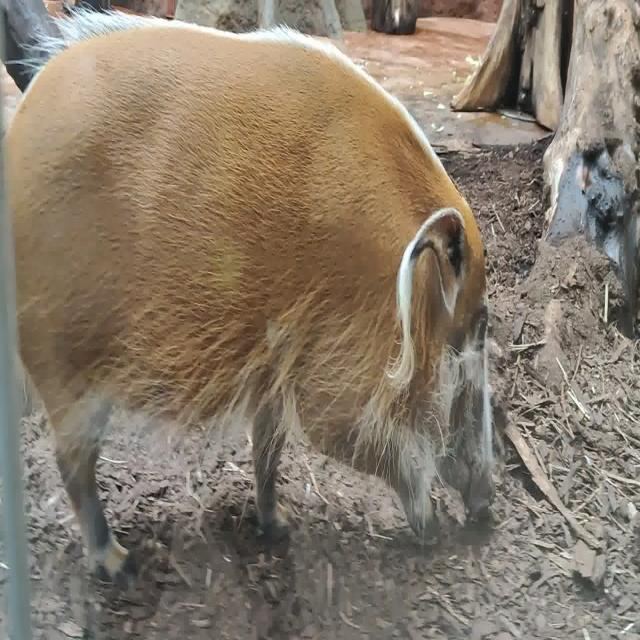boar: (5, 1, 496, 592)
